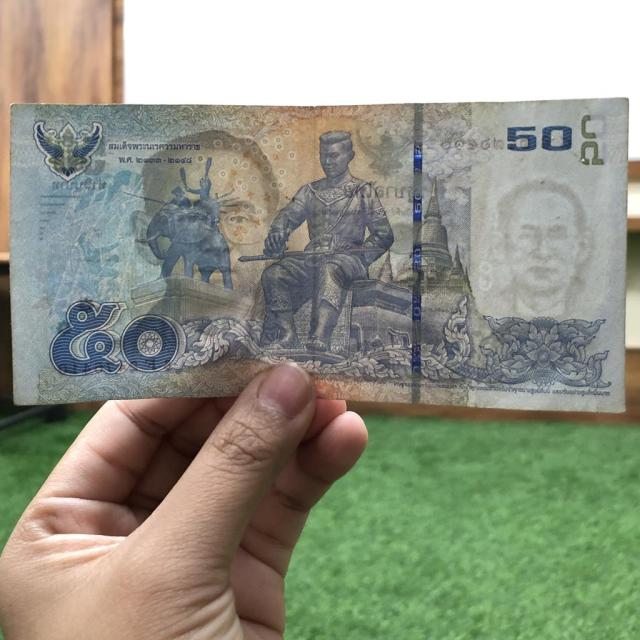THAI50: (10, 99, 628, 413)
